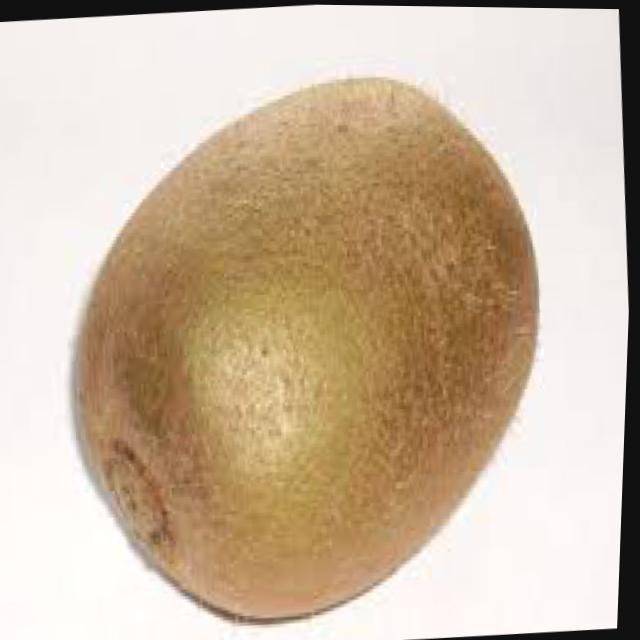kiwi: (43, 62, 567, 634)
